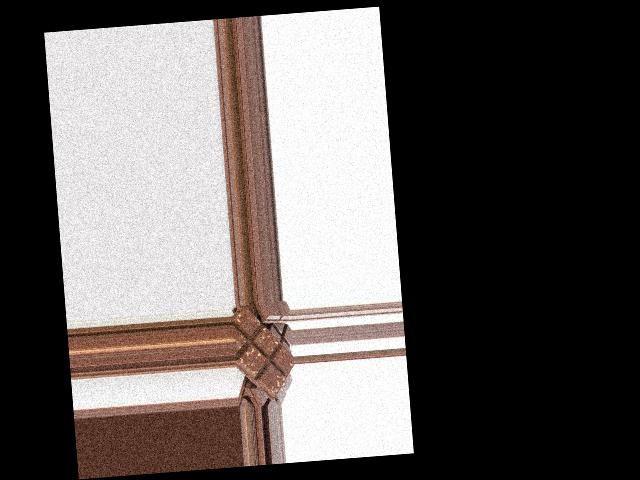chocolate: (230, 303, 295, 396)
